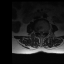CCS_normal: (40, 30, 42, 38)
LFS_stenosis: (44, 30, 45, 34)
LLS_stenosis: (42, 31, 44, 34)
RFS_severe_stenosis: (37, 30, 39, 34)
RLS_stenosis: (39, 30, 40, 35)
